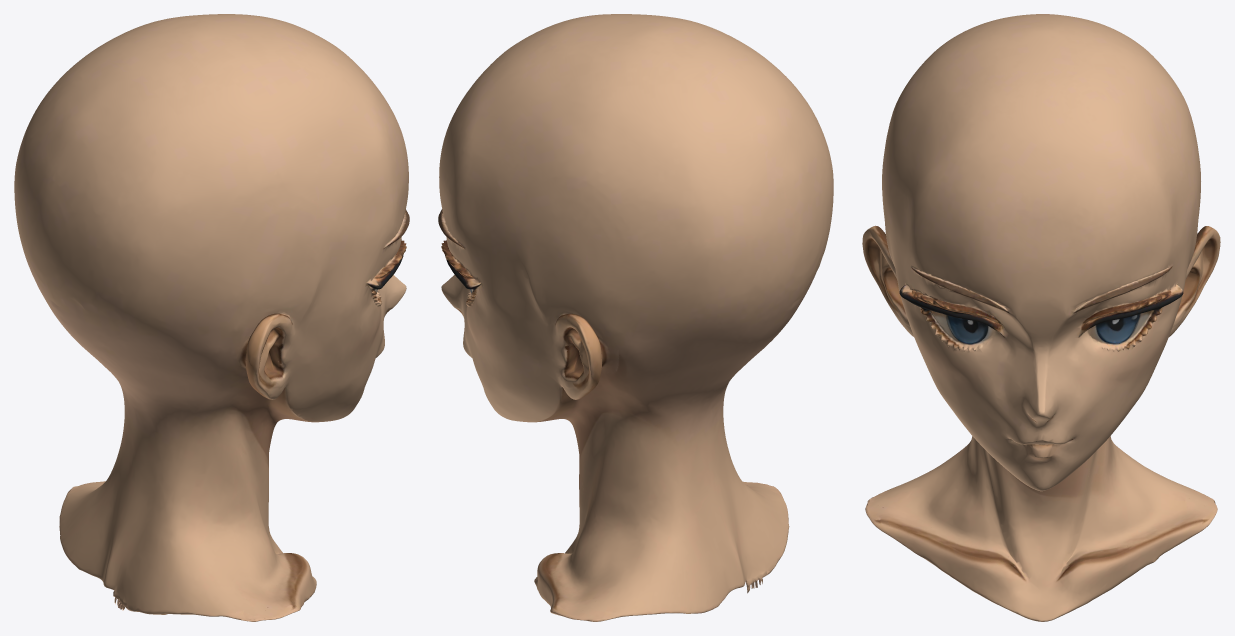
File: tripo_convert_15ca2f07-eda0-46a9-b385-8a8330f7be1c.fbx
3 renders of one model, left to right at view 1: azimuth 30°, elevation 25°; view 2: azimuth 150°, elevation 25°; view 3: azimuth 270°, elevation 25°, orthographic. The views are drawn at different scales.
Parts seen in each view (by area): view 1: tripo_node_15ca2f07; view 2: tripo_node_15ca2f07; view 3: tripo_node_15ca2f07.
Boxes of the visible parts, x1=… form: tripo_node_15ca2f07: x1=14, y1=14, x2=409, y2=621; tripo_node_15ca2f07: x1=438, y1=14, x2=833, y2=621; tripo_node_15ca2f07: x1=862, y1=14, x2=1220, y2=621.
Size of the model in its own units: 0.6546 by 0.9803 by 0.585.
Materials: 1 (1 with a texture image).
